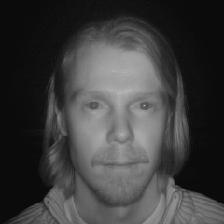normal: (56, 29, 185, 215)
